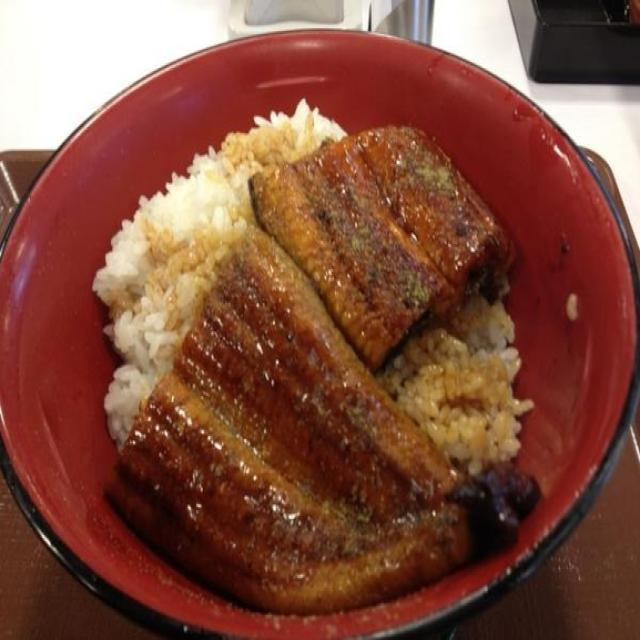熟制海鲜: (18, 37, 636, 604)
